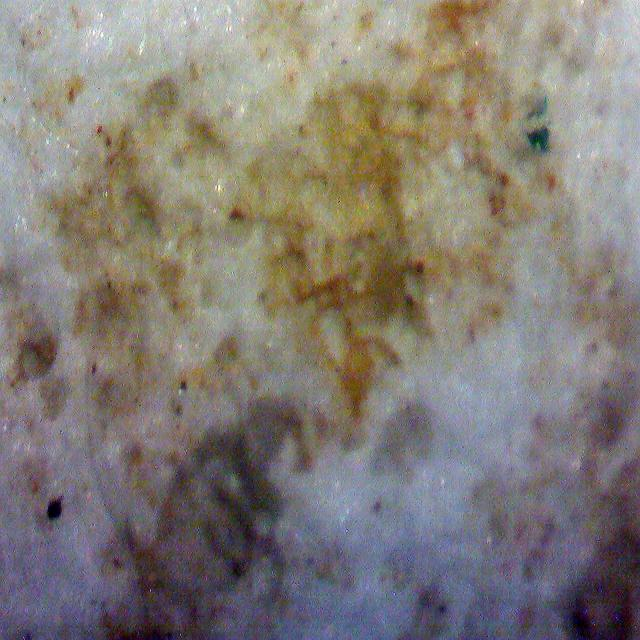microplastic: (524, 98, 549, 153)
